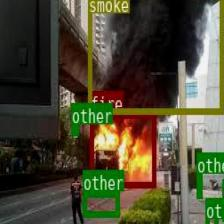fire: (90, 112, 155, 186)
smoke: (87, 0, 222, 112)
